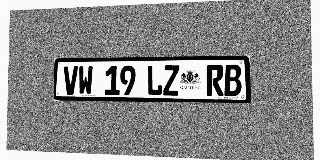1: (104, 66, 120, 95)
9: (120, 65, 135, 95)
B: (224, 64, 241, 96)
L: (147, 65, 163, 95)
R: (206, 65, 224, 96)
V: (63, 66, 78, 95)
W: (78, 66, 93, 95)
Z: (163, 65, 179, 96)
